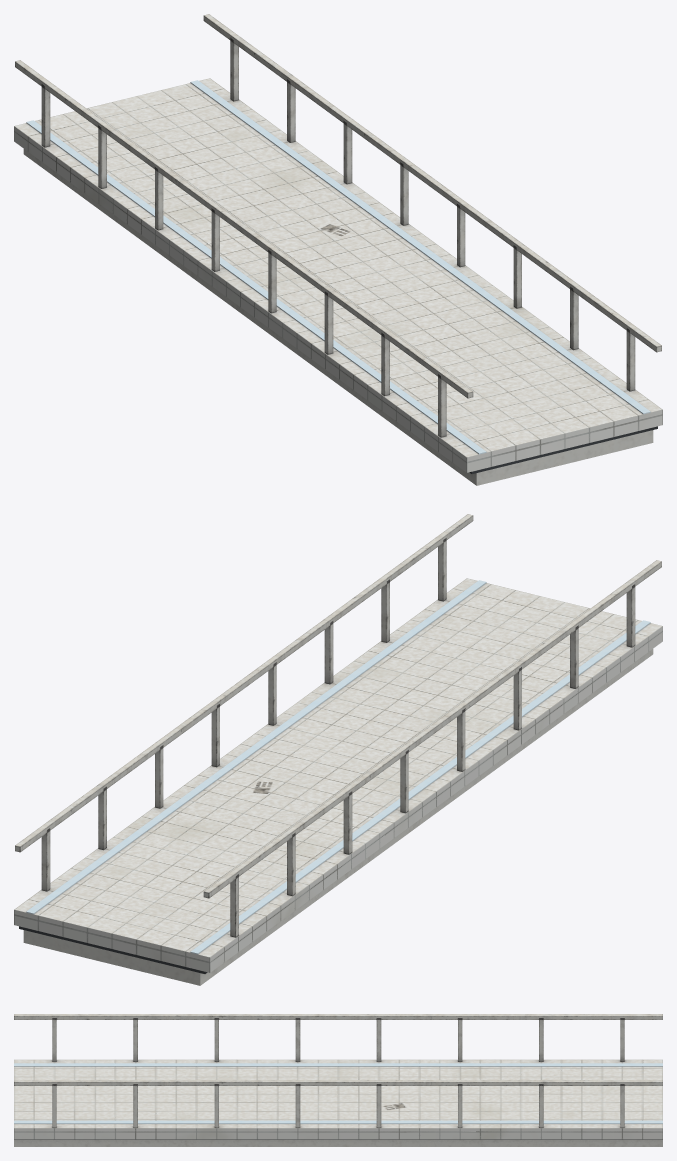
File: catwalk.fbx
3 renders of one model, top to bottom at view 1: azimuth 30°, elevation 25°; view 2: azimuth 150°, elevation 25°; view 3: azimuth 270°, elevation 25°, orthographic. The views are drawn at different scales.
Visible parts, largest first — view 1: Body, Glow; view 2: Body, Glow; view 3: Body, Glow.
Boxes of the visible parts, x1=… form: Body: x1=14, y1=14, x2=662, y2=485; Glow: x1=26, y1=80, x2=650, y2=454; Body: x1=14, y1=514, x2=662, y2=985; Glow: x1=26, y1=580, x2=650, y2=954; Body: x1=14, y1=1014, x2=662, y2=1146; Glow: x1=14, y1=1063, x2=662, y2=1123.
Size of the model in its own units: 8 by 3.71 by 32.
1 material, 1 textured.
